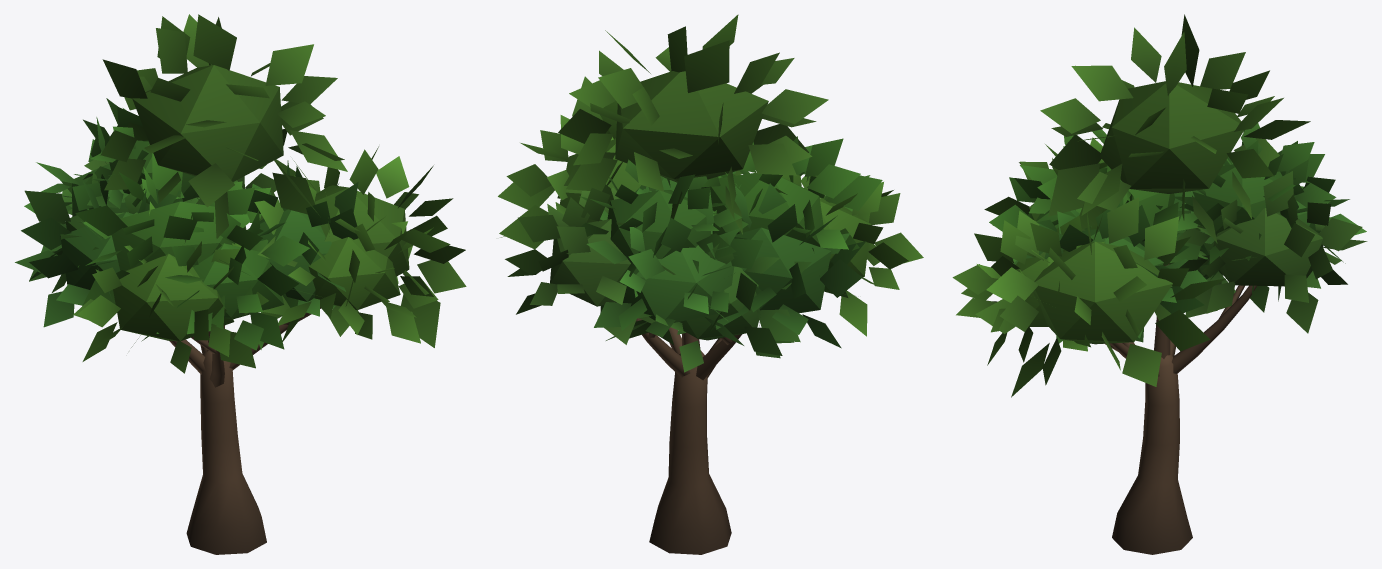
File: oak_a.glb
The picture shows the model from 3 angles, left to right: view 1: azimuth 30°, elevation 25°; view 2: azimuth 150°, elevation 25°; view 3: azimuth 270°, elevation 25°; orthographic projection. The views are drawn at different scales.
Parts seen in each view (by area): view 1: oak_a; view 2: oak_a; view 3: oak_a.
Part boxes in pixels (bbox=[...]): oak_a: bbox=[15, 14, 466, 554]; oak_a: bbox=[498, 14, 923, 554]; oak_a: bbox=[952, 14, 1367, 554].
Size of the model in its own units: 7.11 by 9.02 by 6.77.
